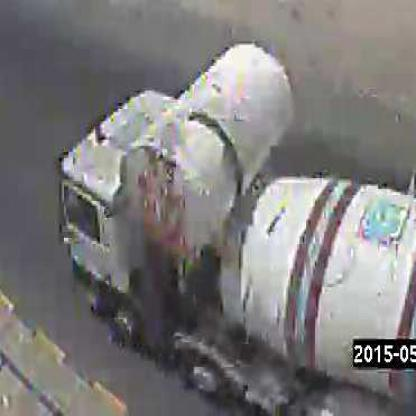truck: (65, 47, 410, 416)
